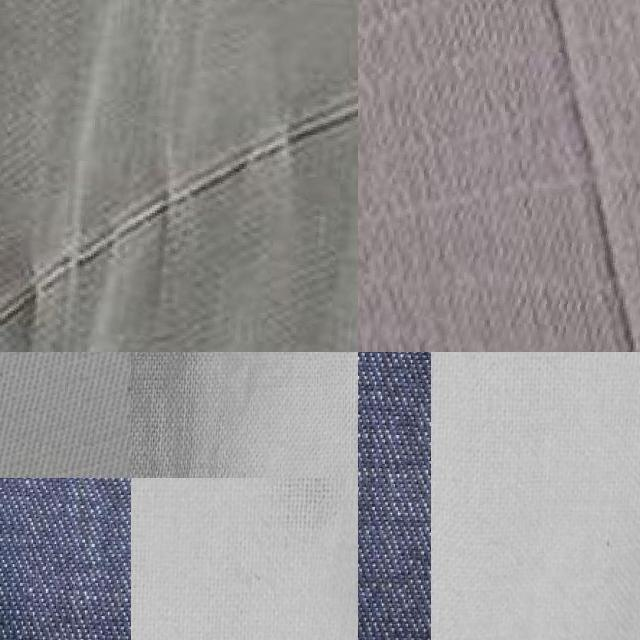Thread_other: (306, 502, 358, 640)
stains: (358, 0, 640, 352)
